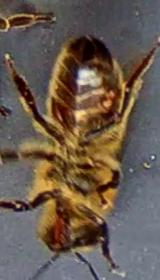varroa_mite: (31, 95, 76, 136), (86, 76, 123, 116)
